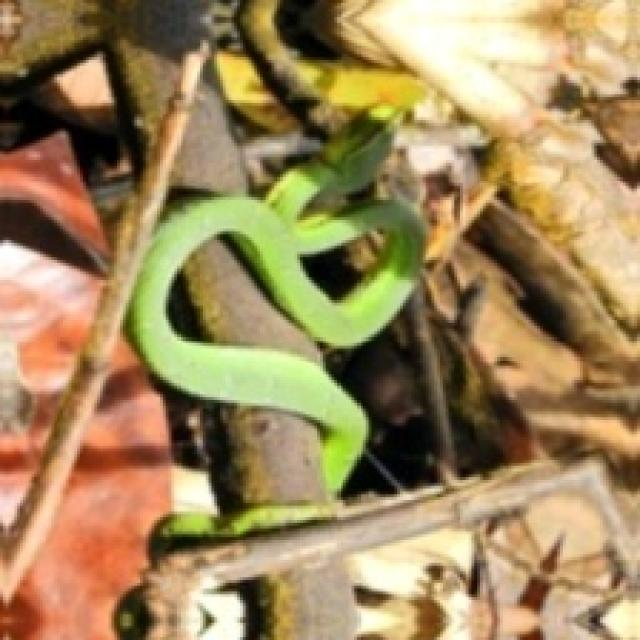north ph temple pitviper: (129, 111, 423, 551)
